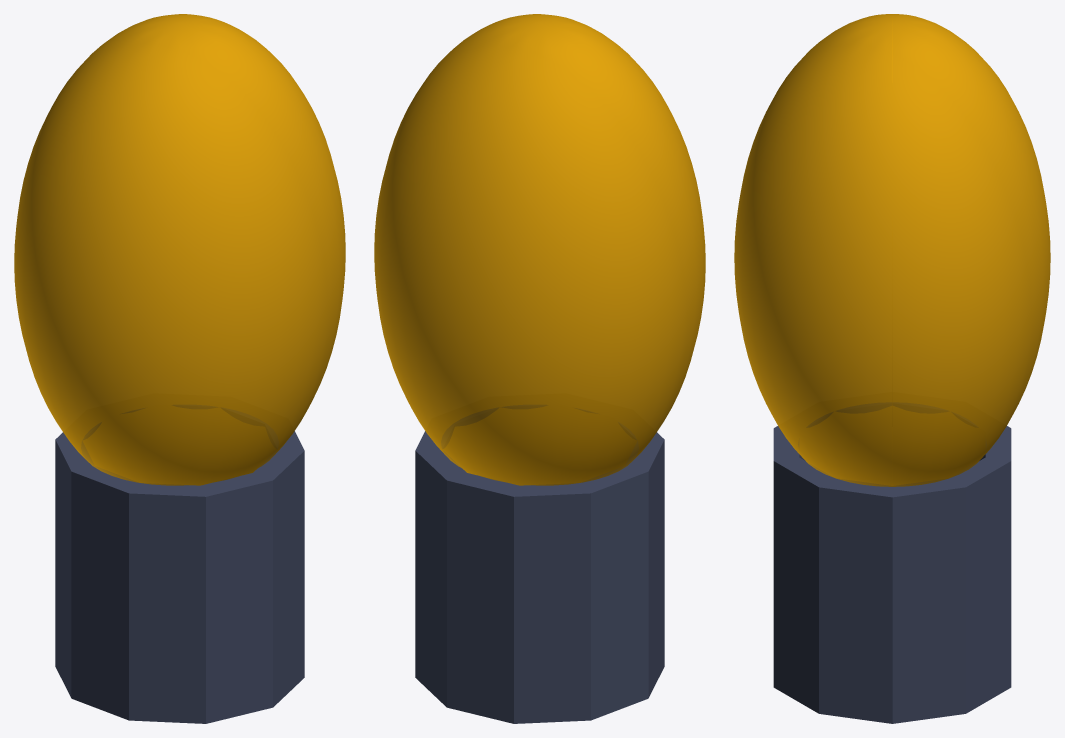
File: girland.fbx
3 renders of one model, left to right at view 1: azimuth 30°, elevation 25°; view 2: azimuth 150°, elevation 25°; view 3: azimuth 270°, elevation 25°, orthographic.
Visible parts, largest first — view 1: pSphere22, pCylinder1; view 2: pSphere22, pCylinder1; view 3: pSphere22, pCylinder1.
Boxes of the visible parts, x1,y1,x2,y2 form: pSphere22: [14, 14, 345, 485]; pCylinder1: [55, 431, 304, 723]; pSphere22: [374, 14, 705, 485]; pCylinder1: [415, 431, 664, 723]; pSphere22: [734, 14, 1050, 486]; pCylinder1: [773, 426, 1011, 723].
Bounding box in the file's own units: 0.1278 × 0.2718 × 0.1204.
